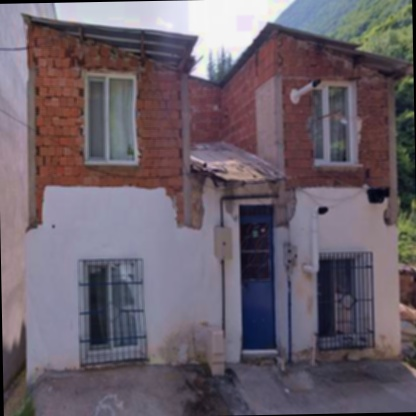door: (239, 205, 275, 349)
